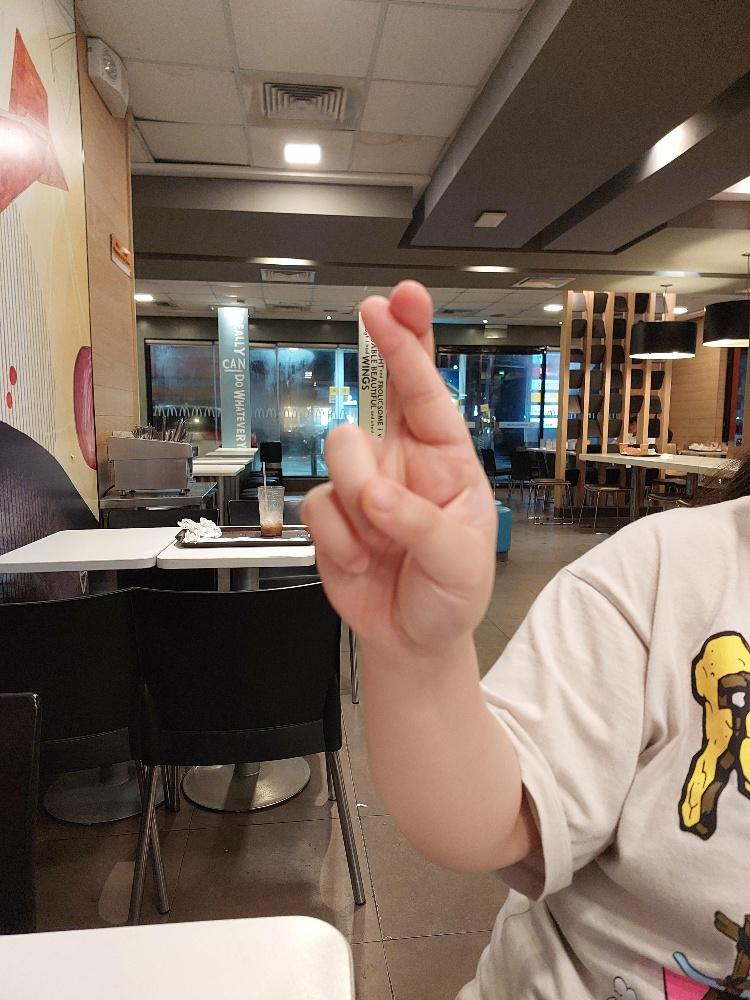r: (299, 276, 499, 655)
